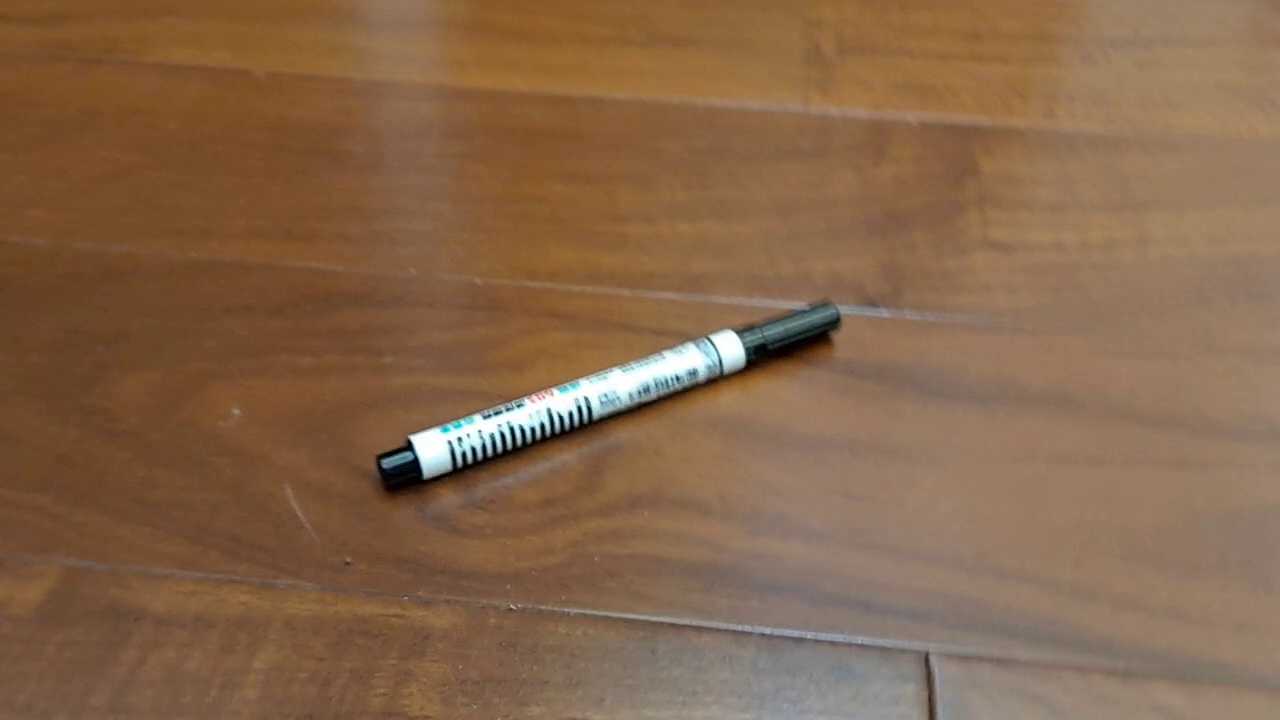pen: (374, 298, 842, 495)
